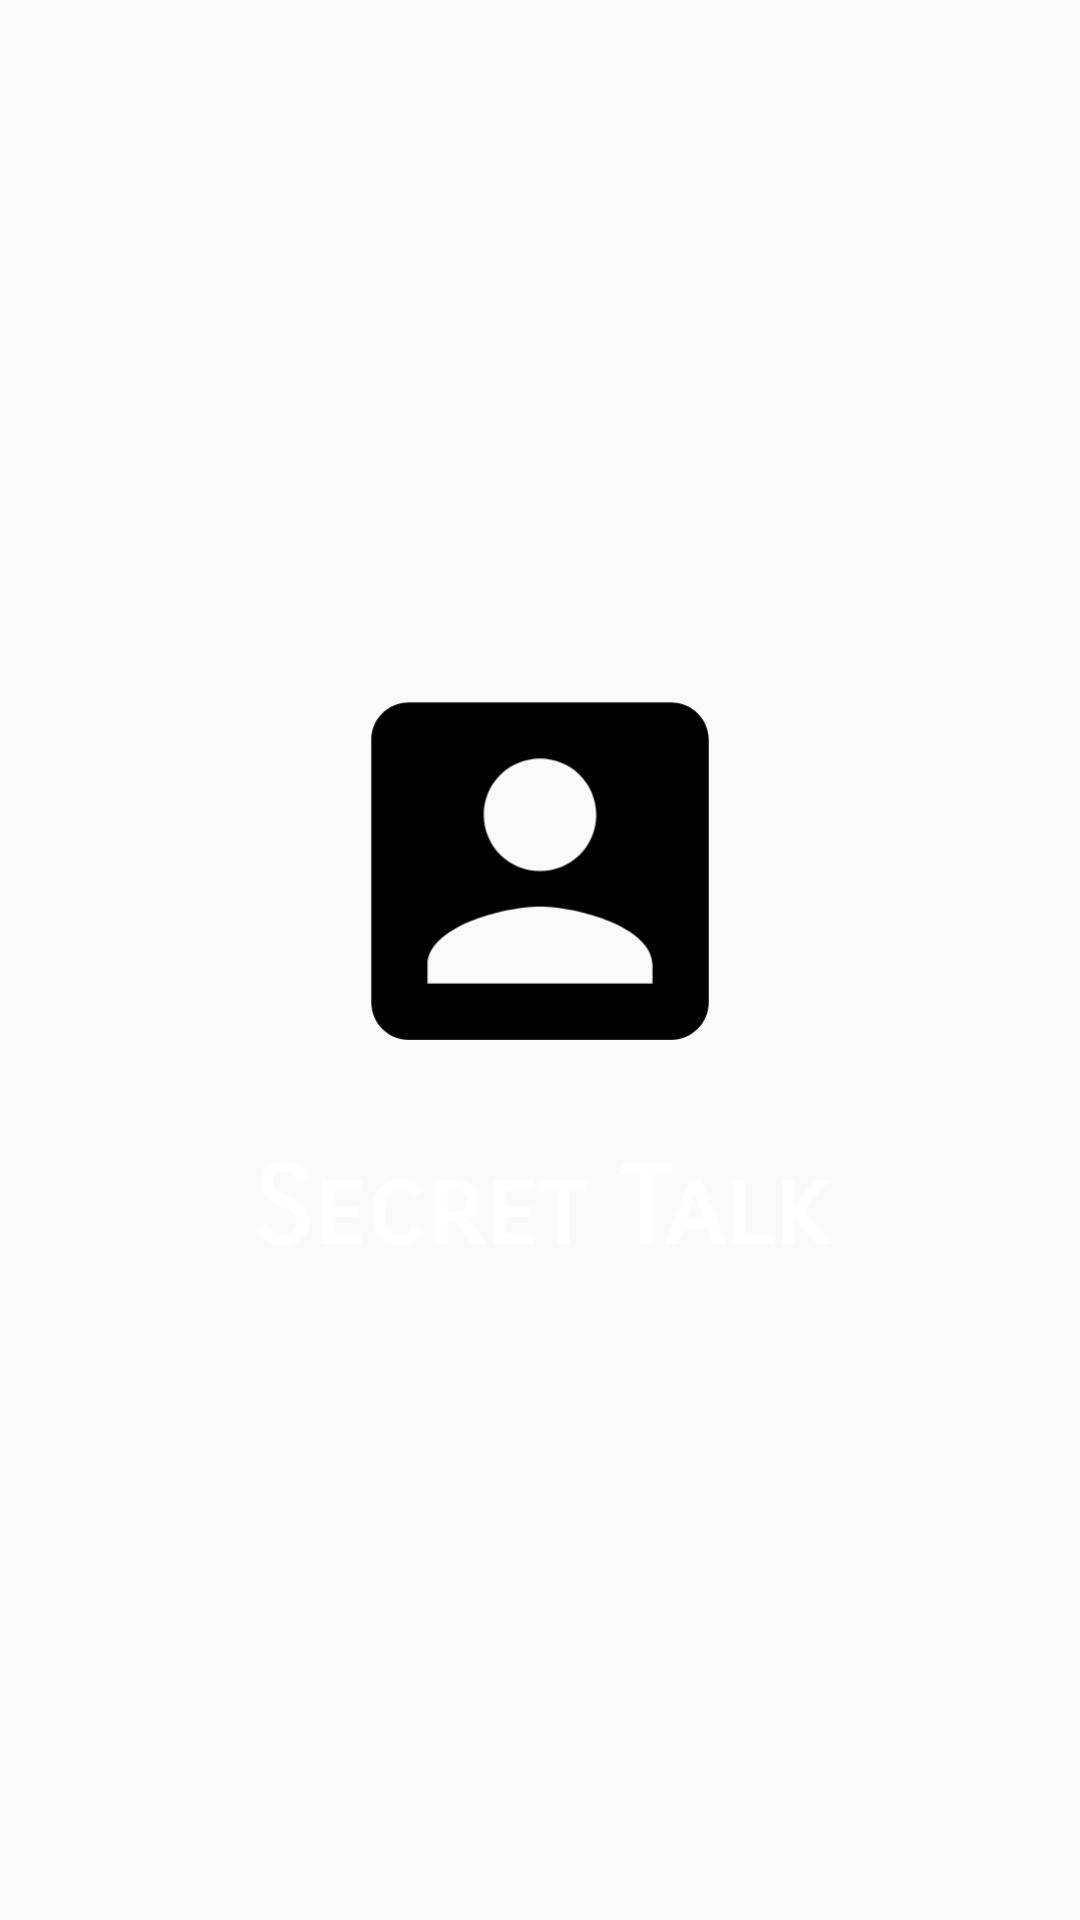

Locate icon controls on the screen. Image size 1080 × 1920, boxes as (x1, y1, x2, y2).
account box: (371, 702, 709, 1040)
